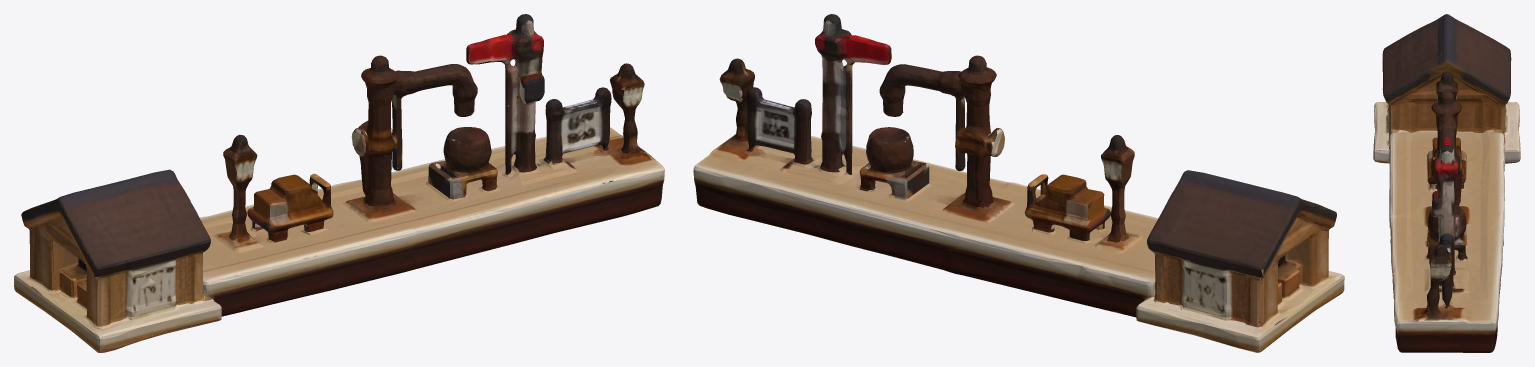
Rendered from platform.glb.
3 views of the same model, side by side, from view 1: azimuth 30°, elevation 25°; view 2: azimuth 150°, elevation 25°; view 3: azimuth 270°, elevation 25° (orthographic). The views are drawn at different scales.
Visible parts, largest first — view 1: tmpv92xbv7_.ply; view 2: tmpv92xbv7_.ply; view 3: tmpv92xbv7_.ply.
Part boxes in pixels (x1,y1,x2,y2): tmpv92xbv7_.ply: (14, 14, 664, 352); tmpv92xbv7_.ply: (693, 14, 1344, 352); tmpv92xbv7_.ply: (1373, 14, 1520, 352).
Bounding box in the file's own units: 1 × 0.3245 × 0.2635.
Materials: 1 (1 with a texture image).
